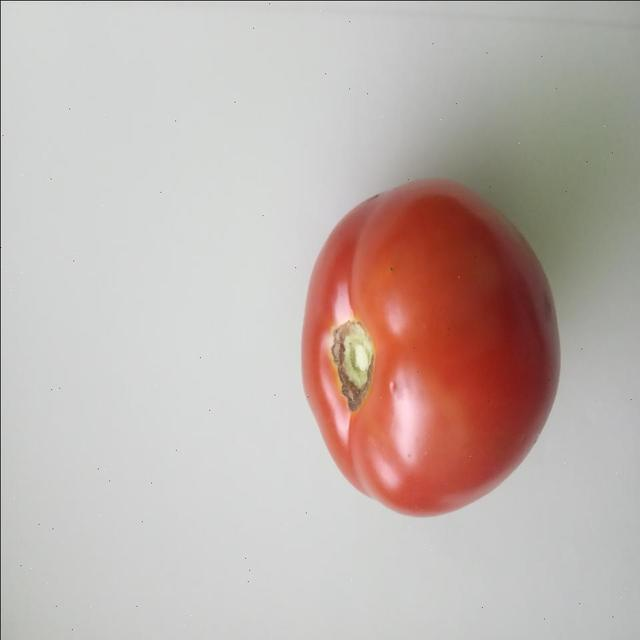Healthy Fruit: (199, 117, 374, 346)
